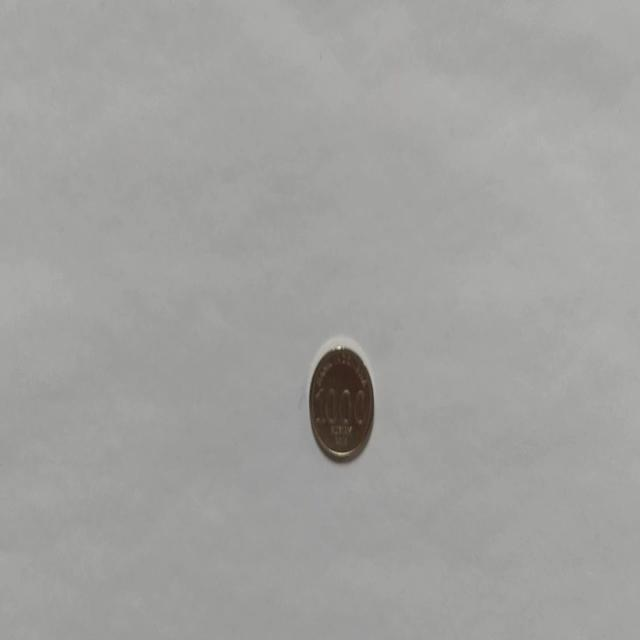seribu rupiah koin: (307, 337, 375, 462)
